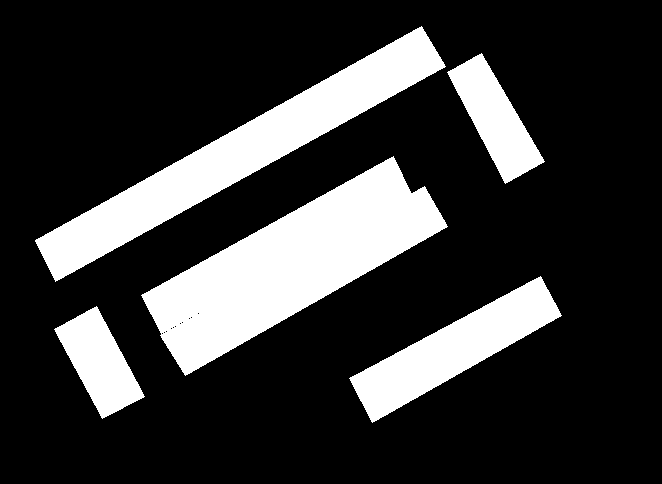parkingspot: (35, 26, 445, 281), (160, 186, 447, 375), (141, 156, 411, 333), (349, 276, 561, 422), (447, 53, 544, 183), (54, 306, 144, 418)
